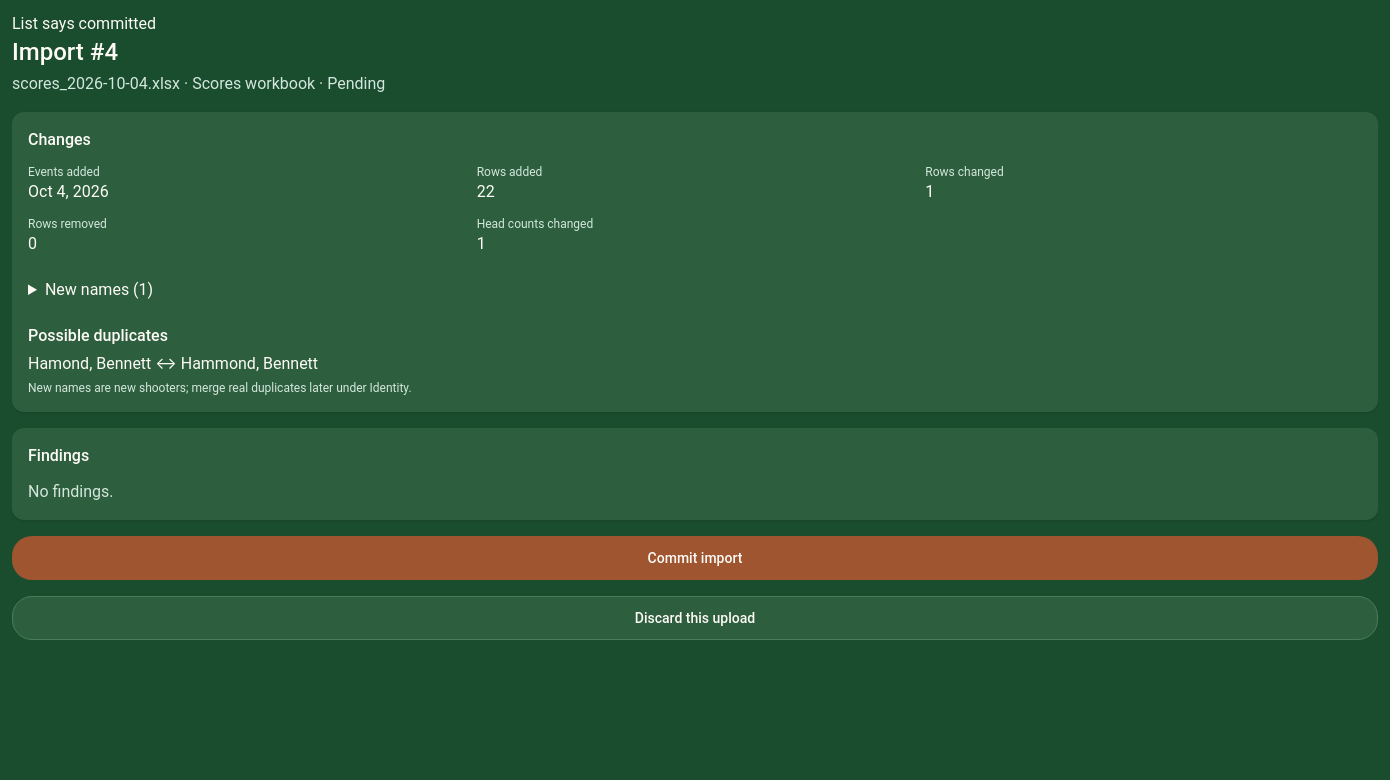
ImportPreviewView › refreshes the import as soon as the commit is accepted and again when the rebuild fails
Click the button "Commit import". click: click(695, 558)
box: top-left (12, 536), bottom-right (1378, 580)
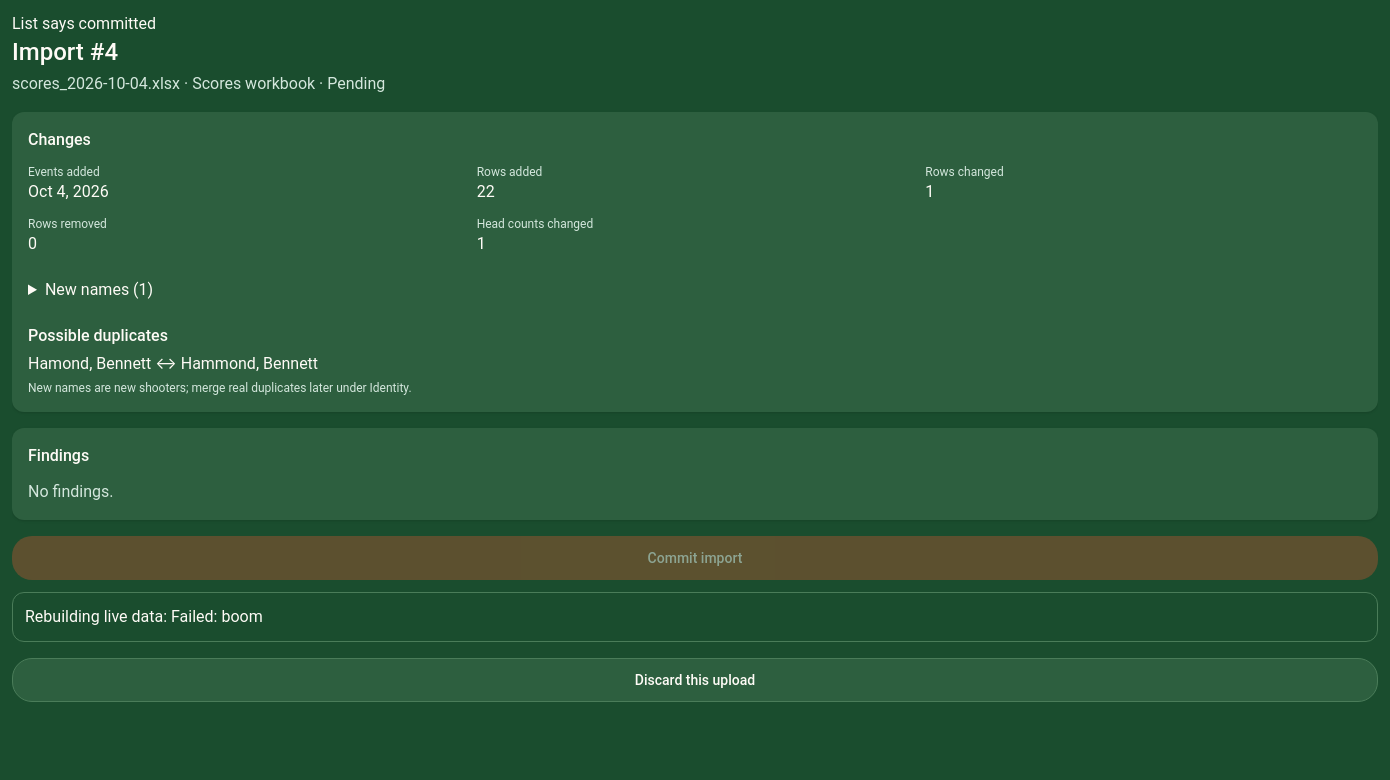
Now the button "Commit import" is disabled, box top-left (12, 536), bottom-right (1378, 580)
Now the text "Rebuilding live data: Failed: boom" is shown, box top-left (12, 592), bottom-right (1378, 642)
